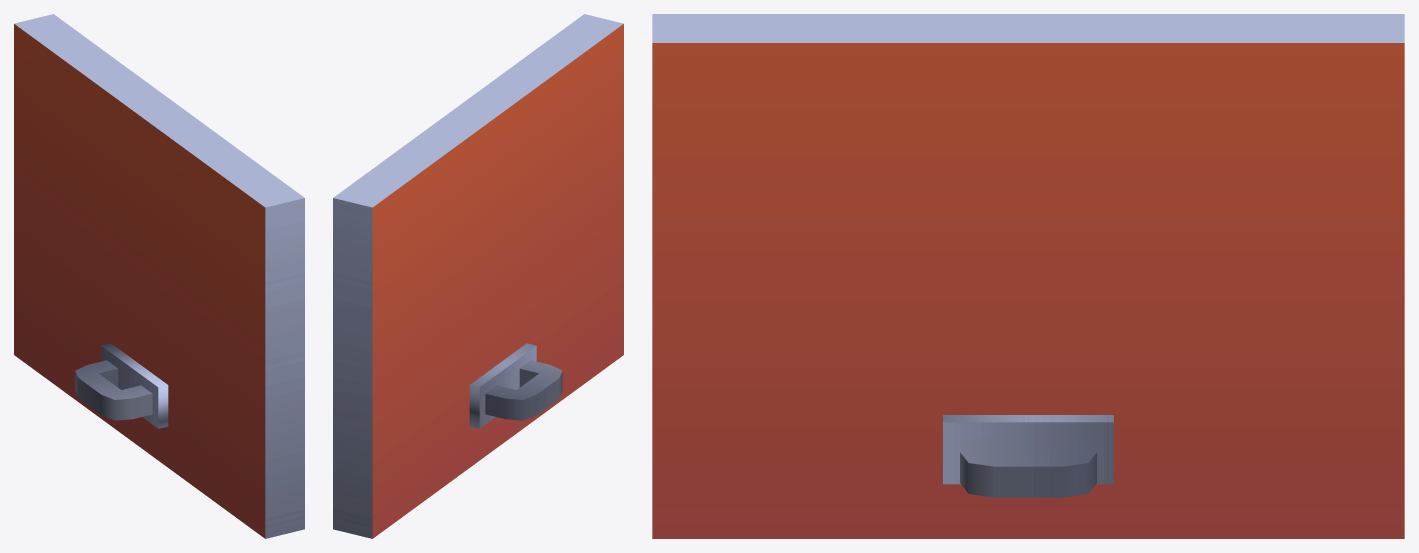
Rendered from door-garage.glb.
3 renders of one model, left to right at view 1: azimuth 30°, elevation 25°; view 2: azimuth 150°, elevation 25°; view 3: azimuth 270°, elevation 25°, orthographic. The views are drawn at different scales.
Visible parts, largest first — view 1: door; view 2: door; view 3: door.
Part boxes in pixels (box(x1,y1,x2,y2)): door: box(14, 14, 304, 538); door: box(333, 14, 623, 538); door: box(652, 14, 1404, 538).
Bounding box in the file's own units: 0.35 × 0.8 × 1.1.
Materials: 1 (1 with a texture image).
